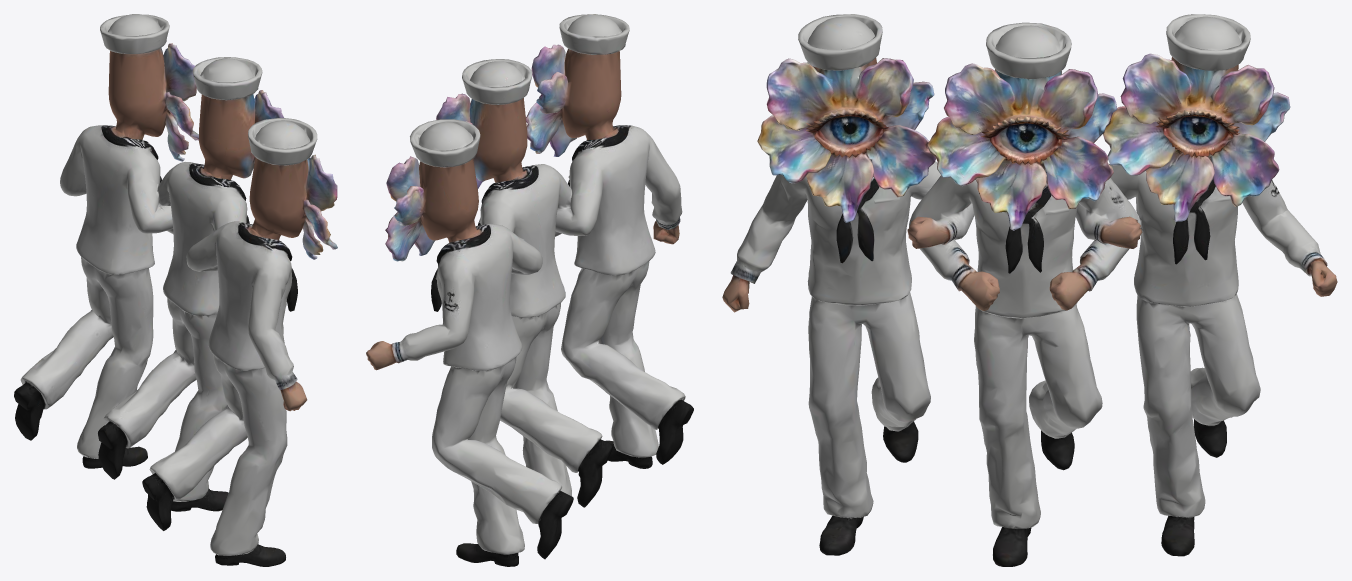
File: sailors.glb
3 views of the same model, side by side, from view 1: azimuth 30°, elevation 25°; view 2: azimuth 150°, elevation 25°; view 3: azimuth 270°, elevation 25° (orthographic). The views are drawn at different scales.
Visible parts, largest first — view 1: tripo_node_1e1af6a6-b7f2-4471-8613-5c6a428146fd; view 2: tripo_node_1e1af6a6-b7f2-4471-8613-5c6a428146fd; view 3: tripo_node_1e1af6a6-b7f2-4471-8613-5c6a428146fd.
Boxes of the visible parts, x1,y1,x2,y2 form: tripo_node_1e1af6a6-b7f2-4471-8613-5c6a428146fd: (14, 14, 337, 566); tripo_node_1e1af6a6-b7f2-4471-8613-5c6a428146fd: (366, 14, 693, 566); tripo_node_1e1af6a6-b7f2-4471-8613-5c6a428146fd: (722, 14, 1337, 566).
Size of the model in its own units: 0.4196 by 0.9698 by 1.
Materials: 1 (1 with a texture image).
